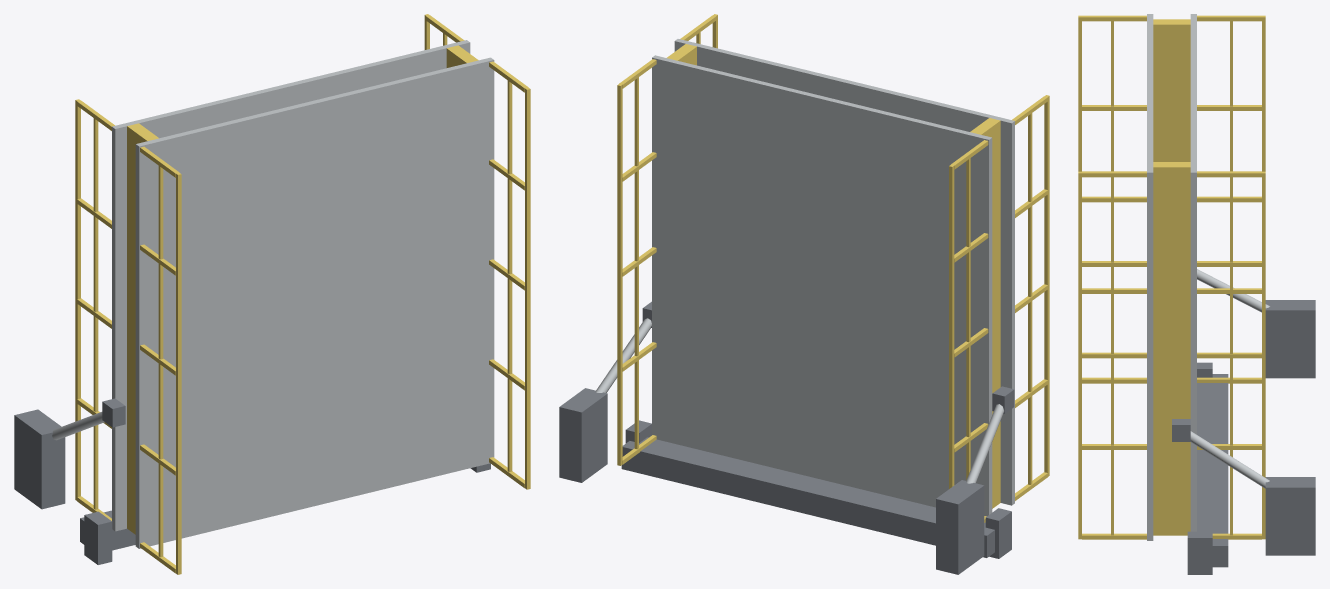
File: jackknife_road.glb
3 renders of one model, left to right at view 1: azimuth 30°, elevation 25°; view 2: azimuth 150°, elevation 25°; view 3: azimuth 270°, elevation 25°, orthographic. The views are drawn at different scales.
Parts seen in each view (by area): view 1: span_b, span_a, bridge; view 2: span_a, bridge, span_b, ram_l, ram_r; view 3: span_b, span_a, bridge, ram_r, ram_l.
Part boxes in pixels (x1,y1,x2,y2): span_b: (135, 53, 530, 574); span_a: (75, 14, 470, 534); bridge: (14, 409, 490, 564); span_a: (617, 51, 1014, 522); bridge: (559, 388, 1011, 574); span_b: (674, 14, 1049, 508); ram_l: (966, 404, 1003, 483); ram_r: (595, 318, 651, 392); span_b: (1078, 14, 1171, 540); span_a: (1172, 14, 1265, 539); bridge: (1187, 300, 1315, 574); ram_r: (1190, 431, 1269, 488); ram_l: (1197, 269, 1269, 312).
Bounding box in the file's own units: 7.1 × 6.95 × 3.8.
